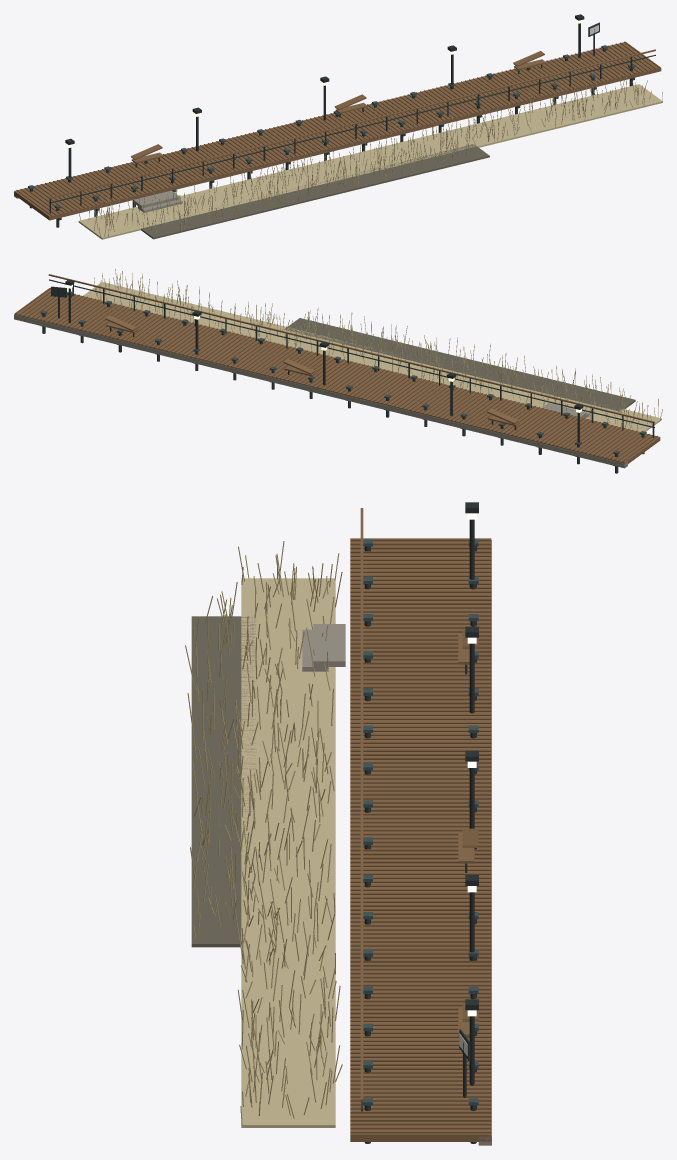
The picture shows the model from 3 angles, top to bottom: view 1: azimuth 30°, elevation 25°; view 2: azimuth 150°, elevation 25°; view 3: azimuth 270°, elevation 25°; orthographic projection. The views are drawn at different scales.
Bounding box in the file's own units: 2.87 × 0.2596 × 0.6236.
